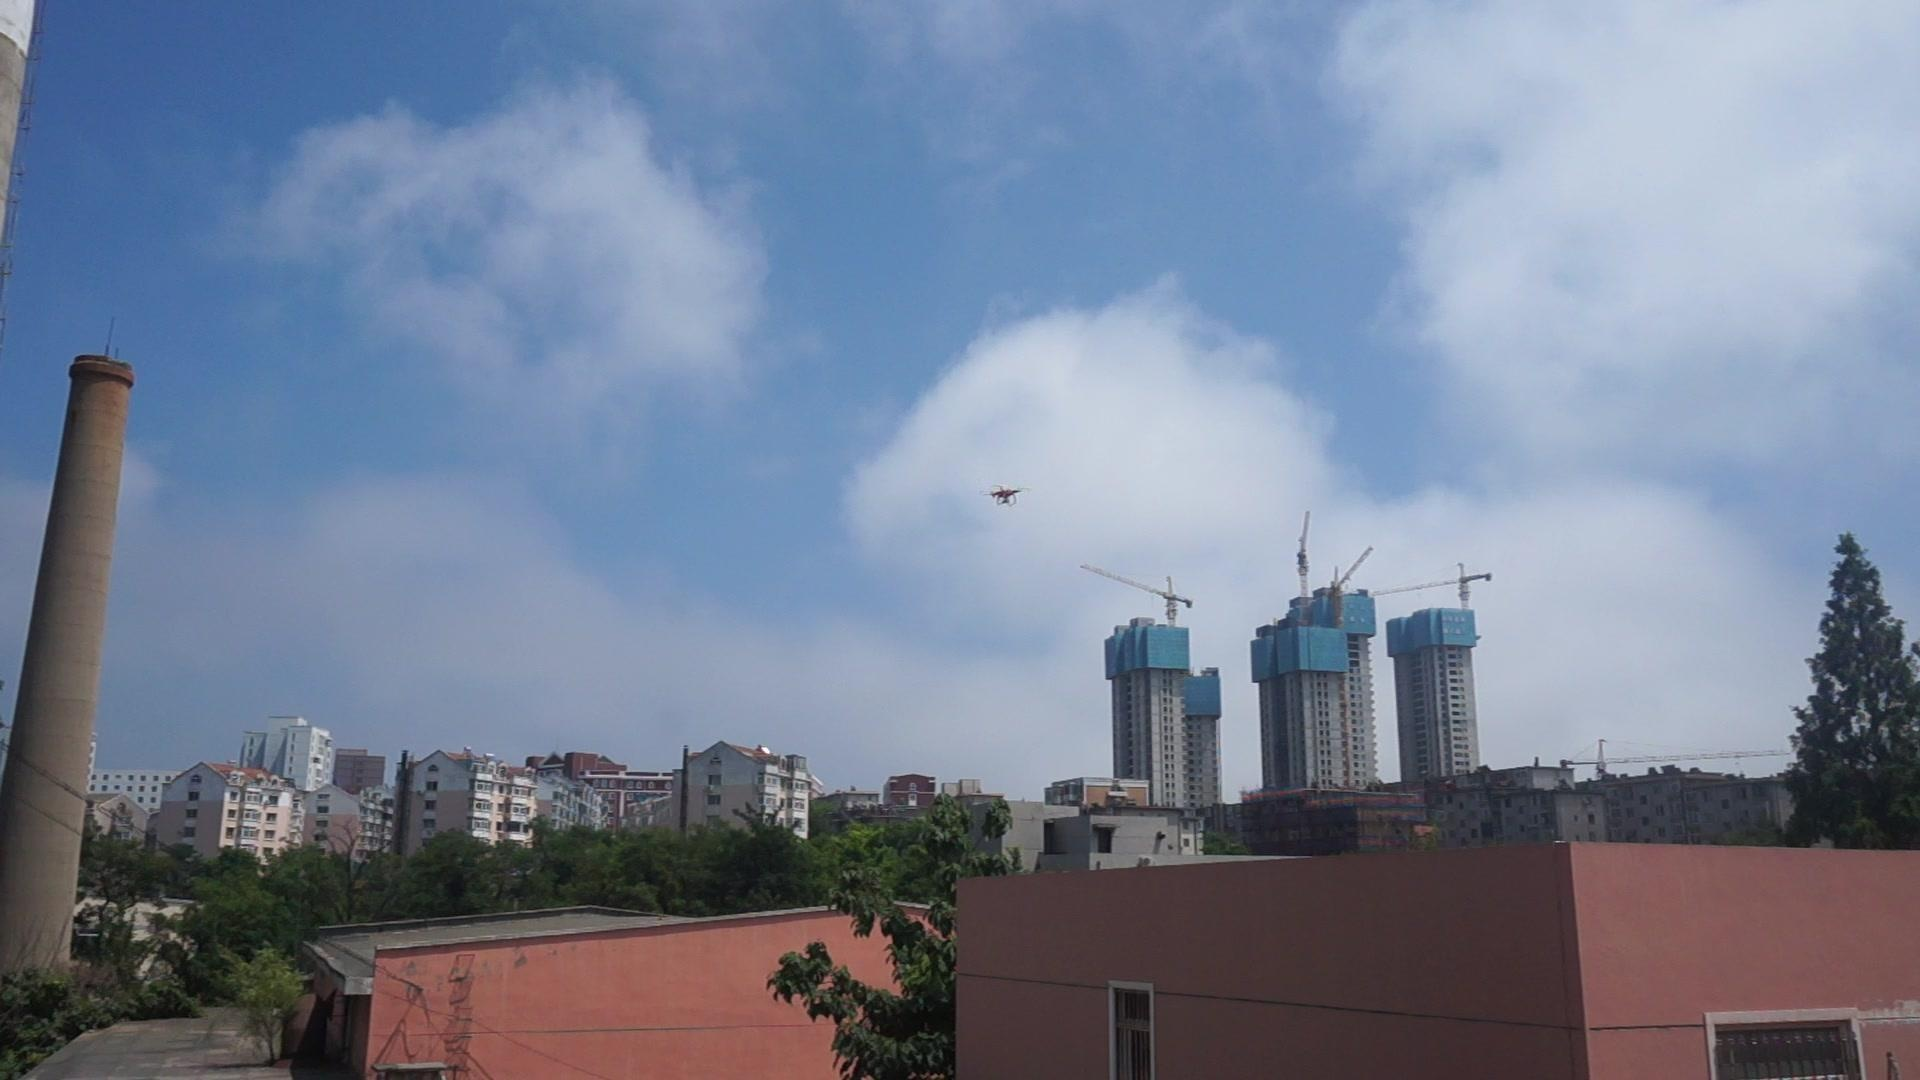UAV: (977, 484, 1034, 508)
